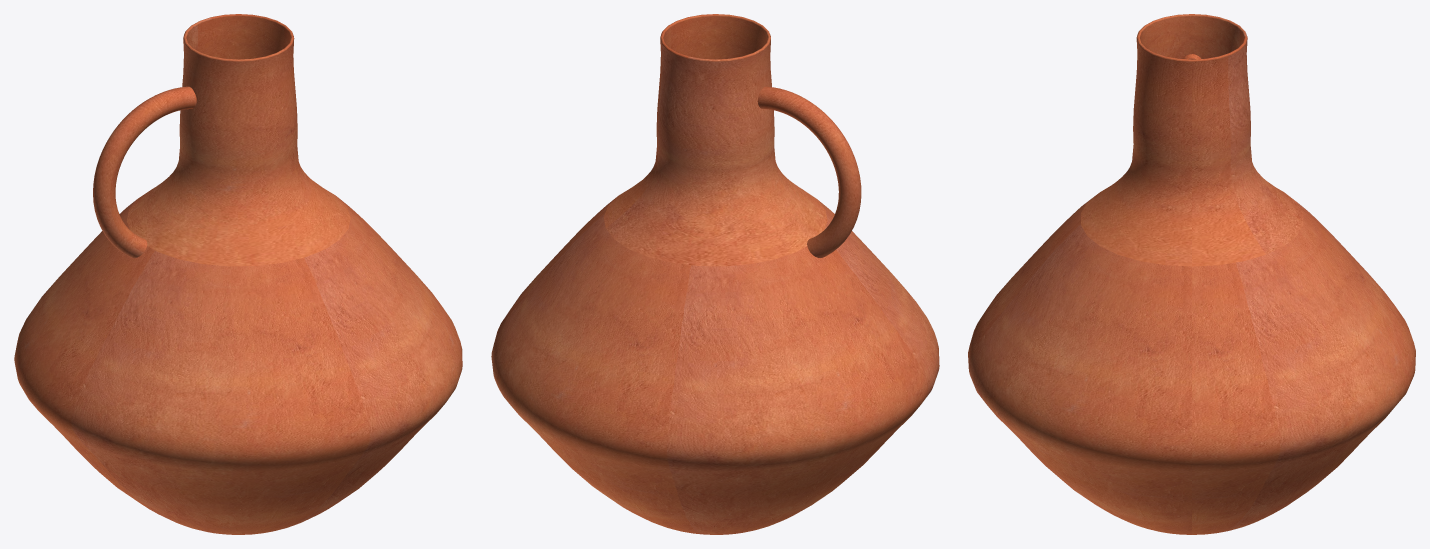
File: Artifact-19.fbx
3 views of the same model, side by side, from view 1: azimuth 30°, elevation 25°; view 2: azimuth 150°, elevation 25°; view 3: azimuth 270°, elevation 25° (orthographic).
Parts seen in each view (by area): view 1: Untitled v2; view 2: Untitled v2; view 3: Untitled v2.
Part boxes in pixels (box(x1,y1,x2,y2)): Untitled v2: box(14, 14, 462, 534); Untitled v2: box(491, 14, 939, 534); Untitled v2: box(968, 14, 1415, 534).
Bounding box in the file's own units: 1371 × 1597 × 1369.
Materials: 1 (1 with a texture image).
